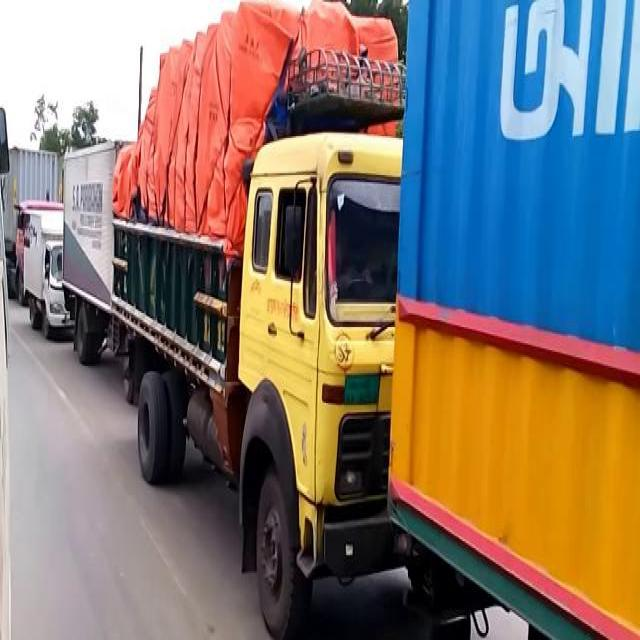vehicle: (112, 3, 406, 636), (61, 140, 128, 361), (5, 145, 62, 304), (23, 207, 74, 340)
